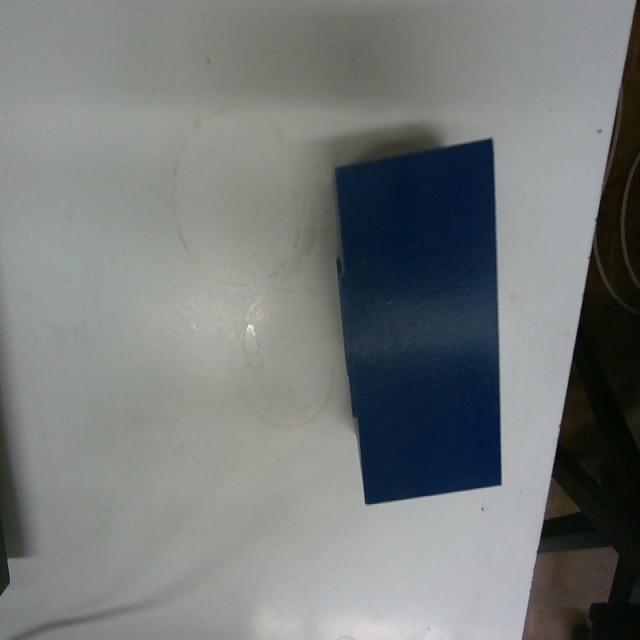Blue Cuboid: (331, 135, 503, 505)
